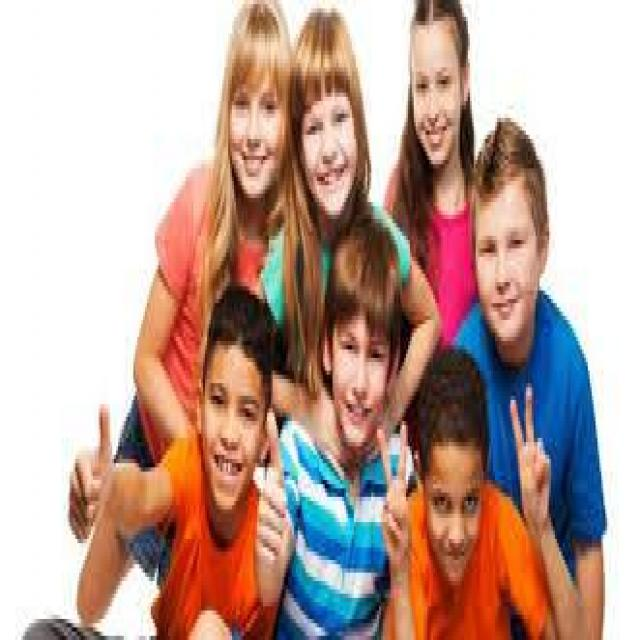person: (452, 130, 622, 628), (83, 303, 271, 636), (375, 320, 524, 636), (182, 0, 292, 375), (308, 202, 402, 636), (389, 0, 485, 396), (273, 12, 387, 294)
